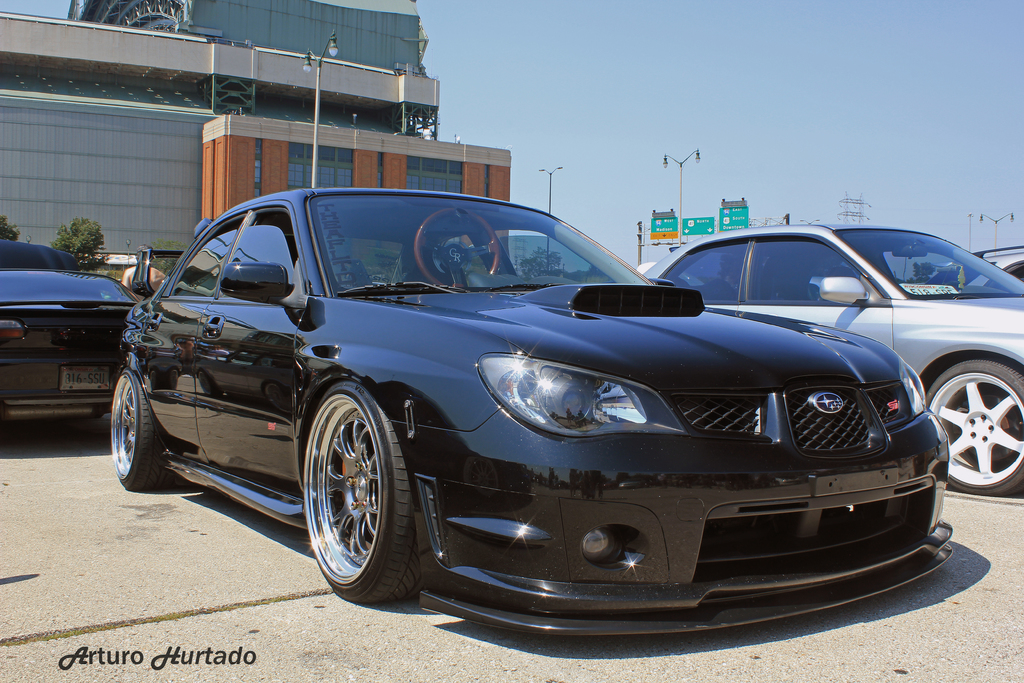Car: (138, 185, 920, 631), (641, 222, 1023, 492), (0, 240, 138, 420), (933, 240, 1023, 289)
